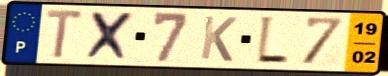7: (300, 15, 346, 68), (151, 10, 190, 64)
K: (198, 14, 239, 64)
L: (254, 14, 292, 67)
T: (44, 7, 87, 61)
X: (83, 9, 139, 62)
